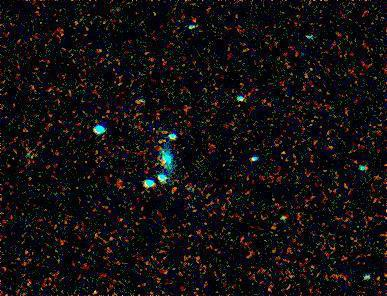star: (156, 149, 186, 179)
